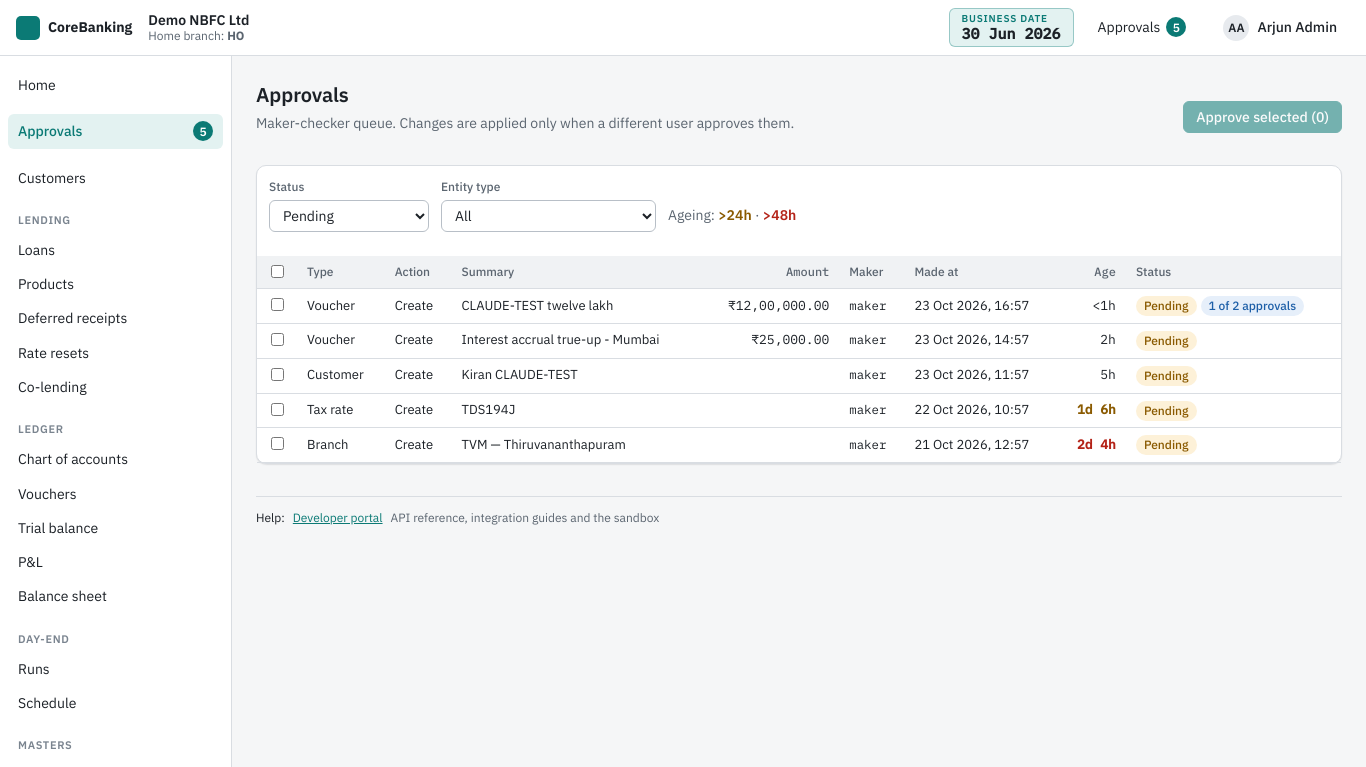
Test: multi-checker approvals › shows "1 of 2 approvals" in the queue and the drawer
This screenshot has width=1366, height=767.
Click the row named "Open Voucher Create request by maker": (799, 306) left=257, top=289, right=1341, bottom=323
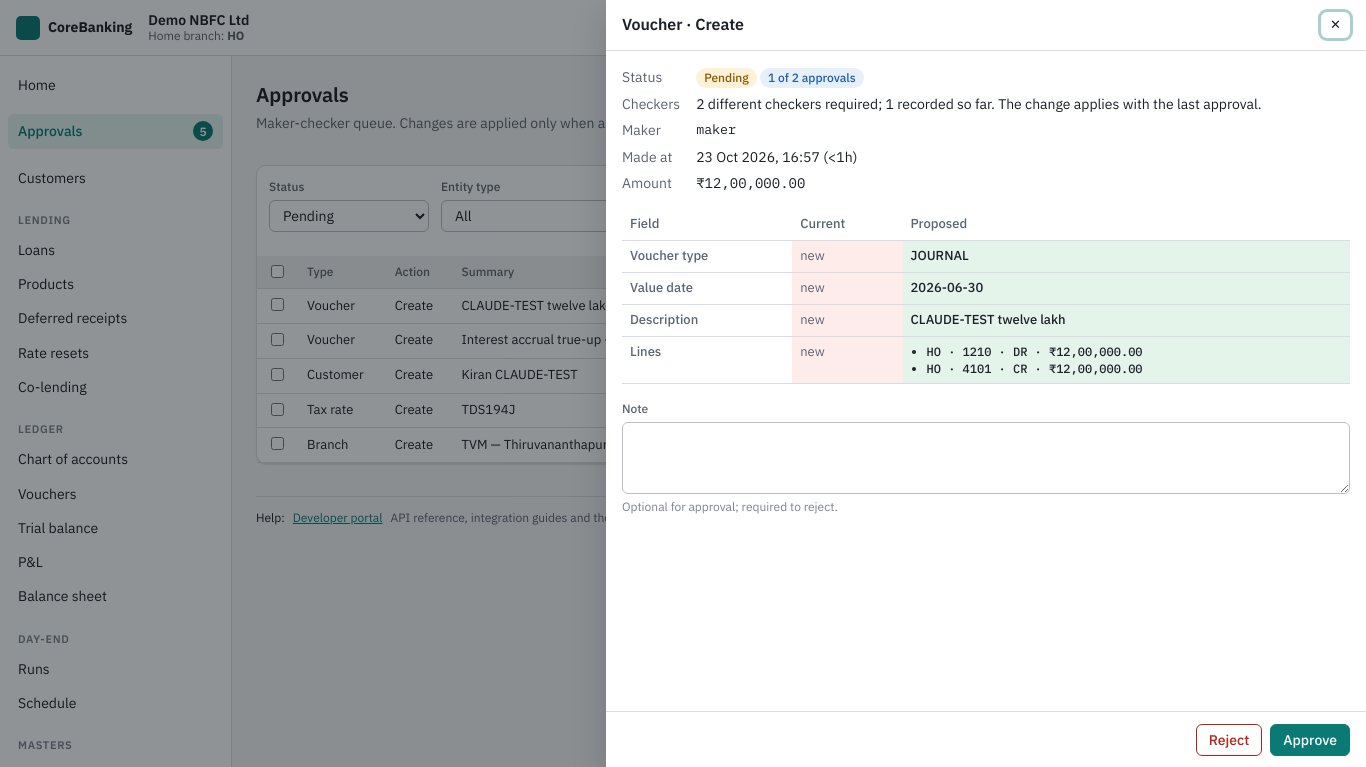
Result: the text with test id "approval-checkers" shows "2 different checkers required; 1 recorded so far" at left=696, top=94, right=1350, bottom=114
Click the button "Approve": (1310, 740) left=1270, top=724, right=1350, bottom=756
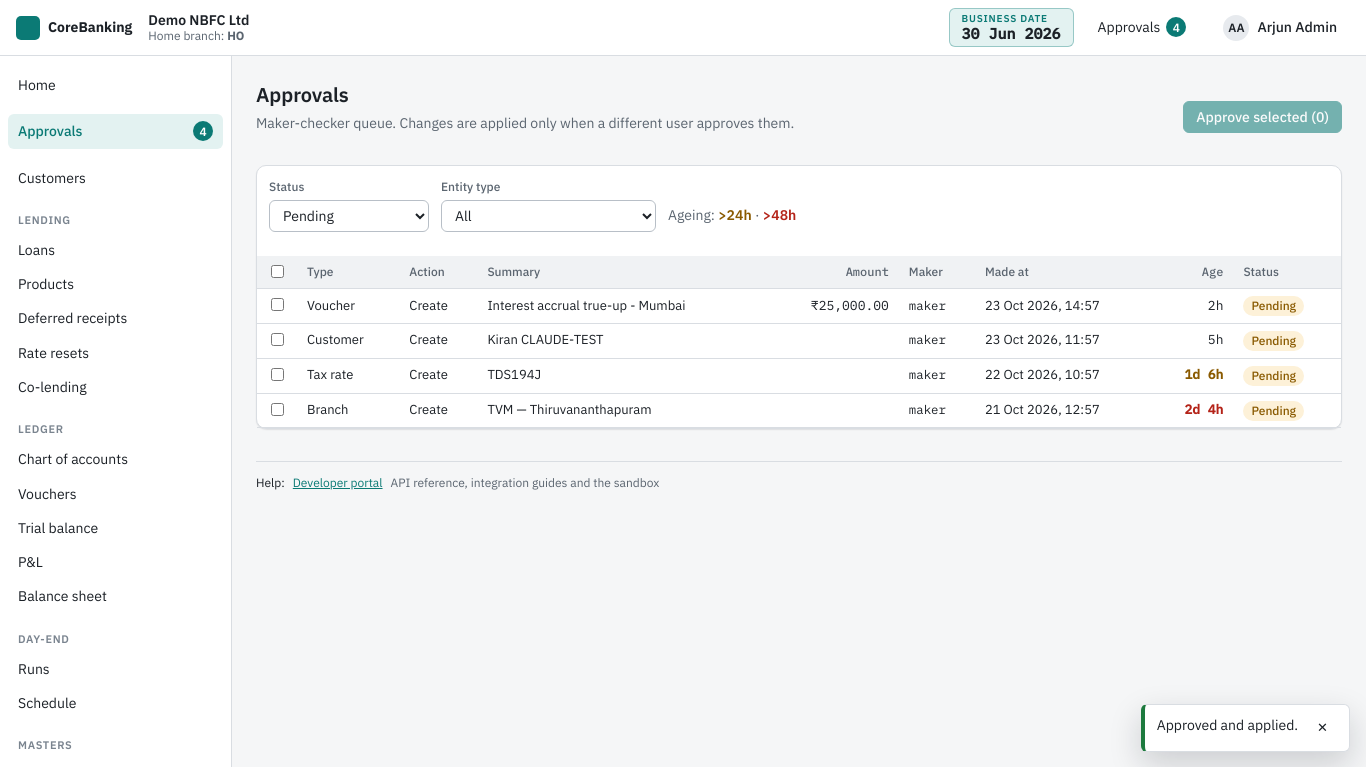
Result: the text "Approved and applied." is shown at left=1157, top=715, right=1298, bottom=735
